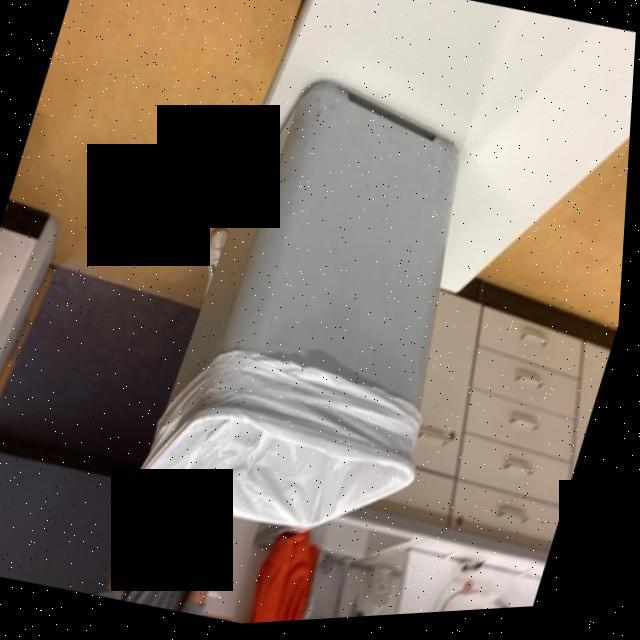bin: (111, 43, 541, 583)
